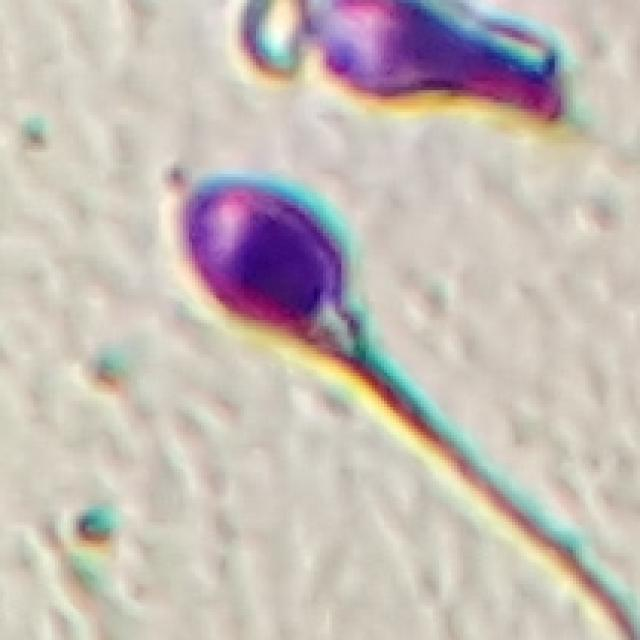normal sperm: (175, 174, 432, 438)
